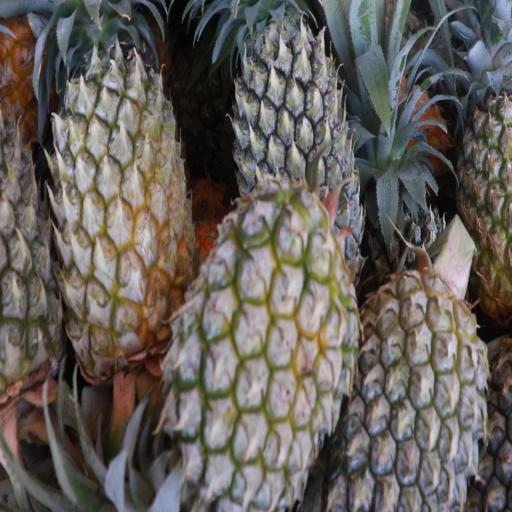------------------------------: (175, 191, 358, 512), (55, 0, 190, 367)
